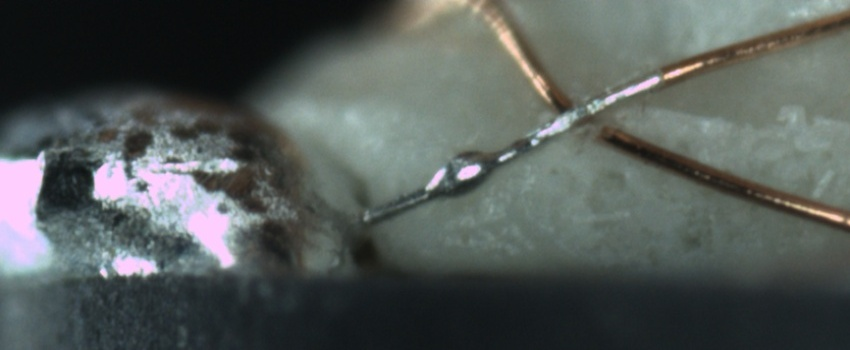CL: (532, 79, 621, 147)
DL: (550, 90, 850, 154)
TB: (431, 144, 499, 205)
TS: (358, 69, 664, 225)
TTCW: (362, 51, 713, 225)
